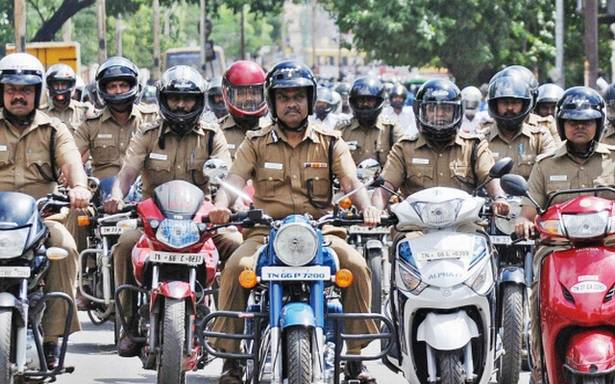helmet: (266, 59, 315, 112), (156, 66, 205, 119), (490, 76, 537, 124), (95, 57, 141, 105), (419, 82, 465, 130), (558, 86, 604, 134), (1, 55, 45, 103), (226, 64, 265, 113), (346, 72, 383, 116)
